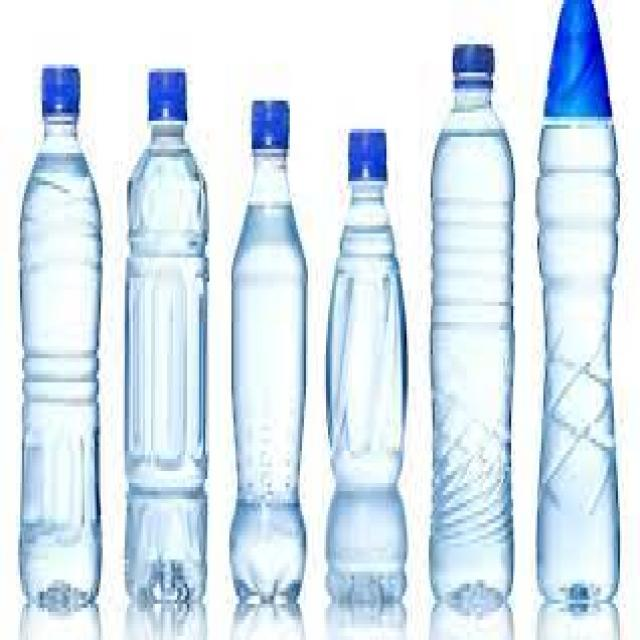Botella Plastica: (535, 0, 620, 600), (428, 44, 515, 616), (18, 65, 102, 621), (123, 72, 209, 609), (323, 130, 408, 609), (230, 96, 309, 606)
